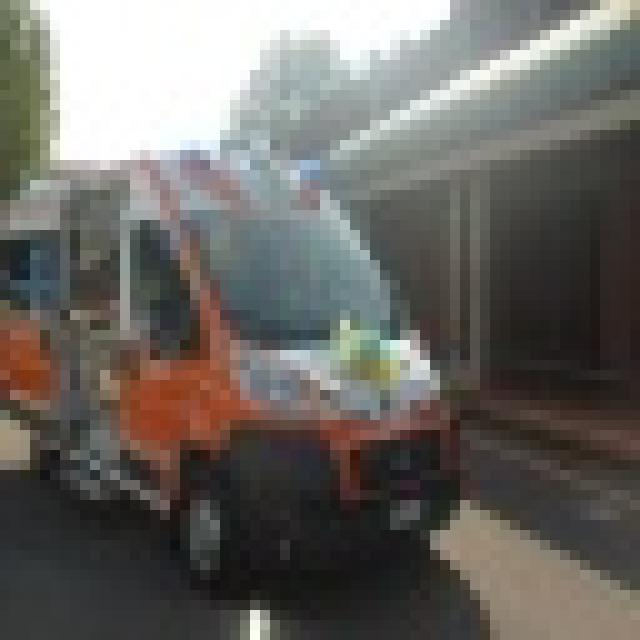Ambulance: (0, 140, 460, 590)
